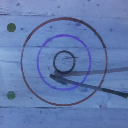Axe Tip: (57, 81, 67, 85)
